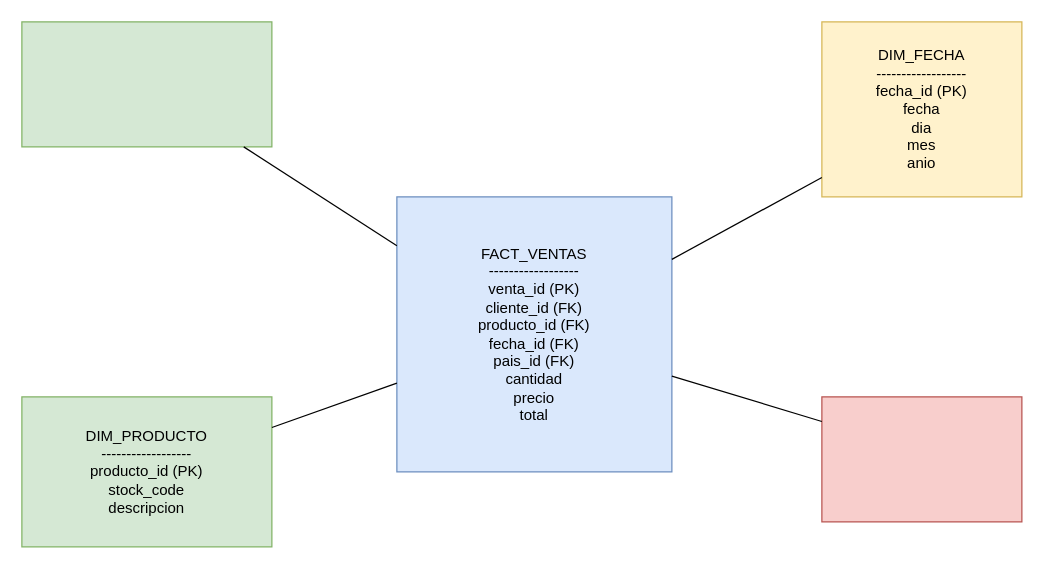
Image size: 1044x569. Some labels were removed from this diagram. Here are the shapes that lost their labels. From the top down, the centre of each, then its label:
At pixel 146 84: "DIM_CLIENTE ------------------ cliente_id (PK) customer_code".
At pixel 921 459: "DIM_PAIS ------------------ pais_id (PK) nombre_pais".
